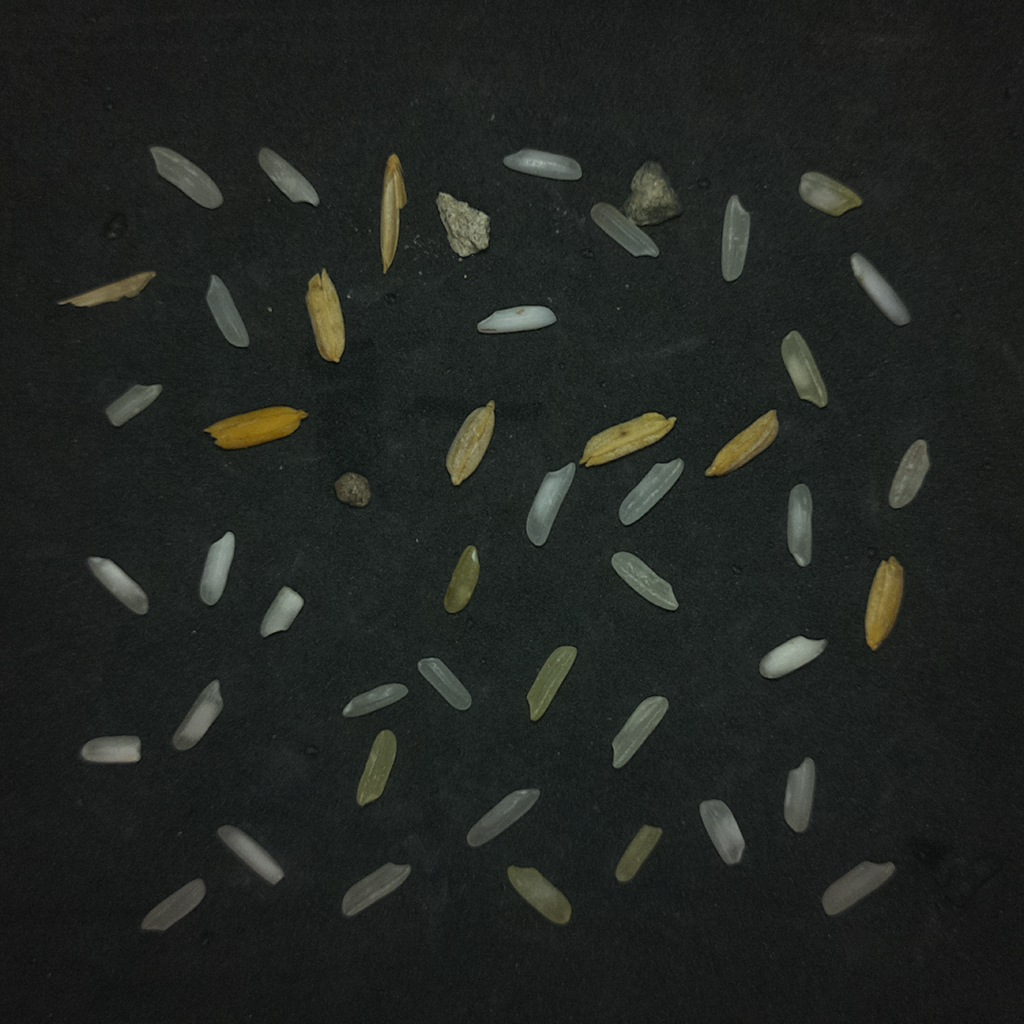broken: (258, 147, 319, 205), (699, 799, 744, 865), (417, 657, 471, 710), (888, 439, 929, 508), (105, 384, 162, 426), (784, 757, 815, 833), (342, 683, 408, 716), (80, 735, 140, 763)
chalky: (851, 252, 910, 325), (216, 825, 283, 884), (171, 680, 224, 751), (86, 556, 148, 614), (759, 635, 826, 678), (199, 531, 235, 605), (503, 148, 581, 179), (476, 305, 556, 333), (260, 586, 303, 637)
discolored: (527, 645, 577, 721), (507, 866, 571, 924), (781, 330, 826, 407), (356, 729, 396, 806), (798, 171, 861, 216), (615, 824, 662, 882), (444, 545, 480, 614)
foreign: (622, 161, 681, 225), (435, 192, 489, 257)
paddy: (580, 412, 675, 466), (705, 409, 778, 476), (204, 406, 307, 449), (446, 400, 495, 486), (305, 269, 345, 362), (865, 556, 903, 649), (58, 272, 155, 307), (380, 153, 406, 273), (335, 471, 371, 507)
whole: (150, 146, 222, 208), (618, 458, 683, 524), (467, 788, 539, 847), (526, 462, 575, 546), (613, 696, 668, 768), (611, 551, 678, 610), (821, 861, 894, 915), (591, 202, 658, 256), (342, 863, 410, 916), (141, 878, 205, 931), (206, 275, 249, 347), (721, 195, 749, 281), (787, 483, 812, 566)
